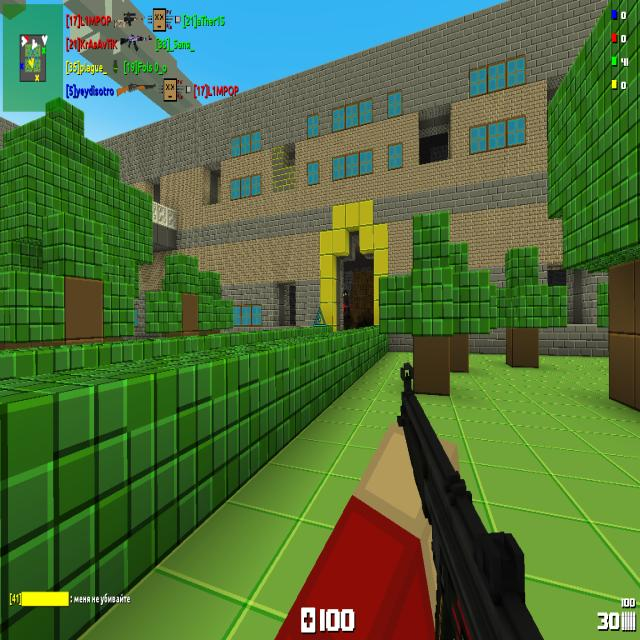enemy: (343, 289, 350, 328)
